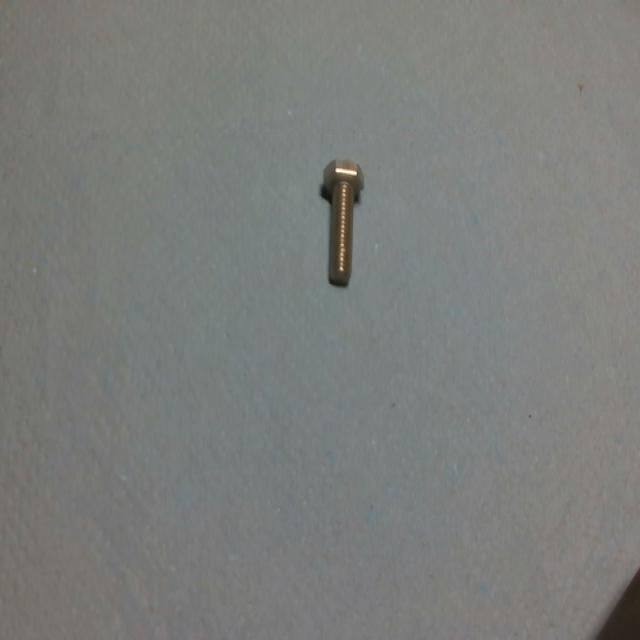Bolt: (320, 160, 364, 288)
